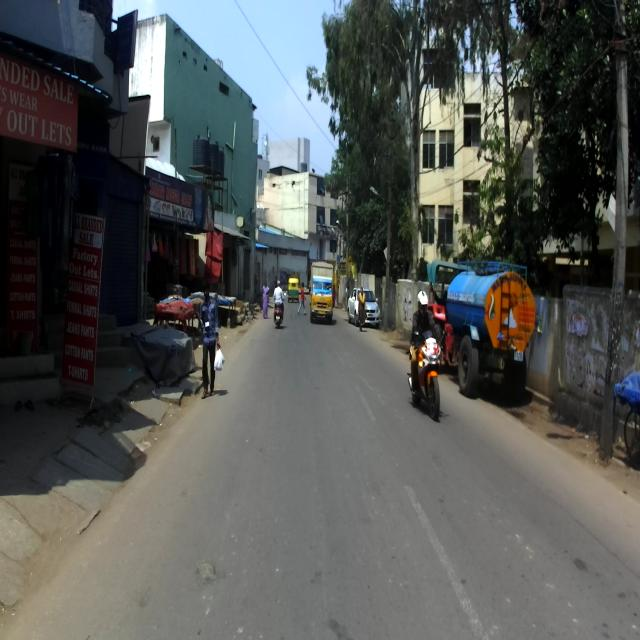electric pole ahead at: (599, 0, 634, 470)
motorcycle ahead at: (407, 332, 446, 423)
person ahead at: (198, 281, 224, 403)
truck ahead at: (446, 266, 530, 392), (306, 259, 339, 327)
